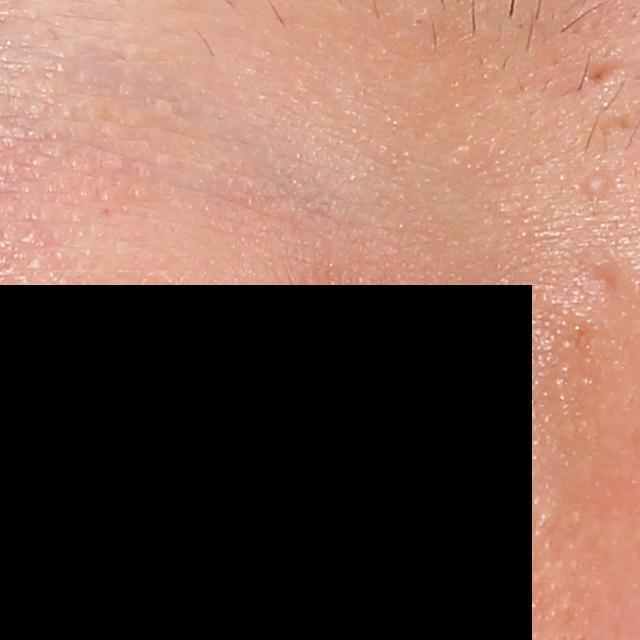atrophic_scar: (580, 60, 623, 89)
comedo: (579, 172, 614, 203)
